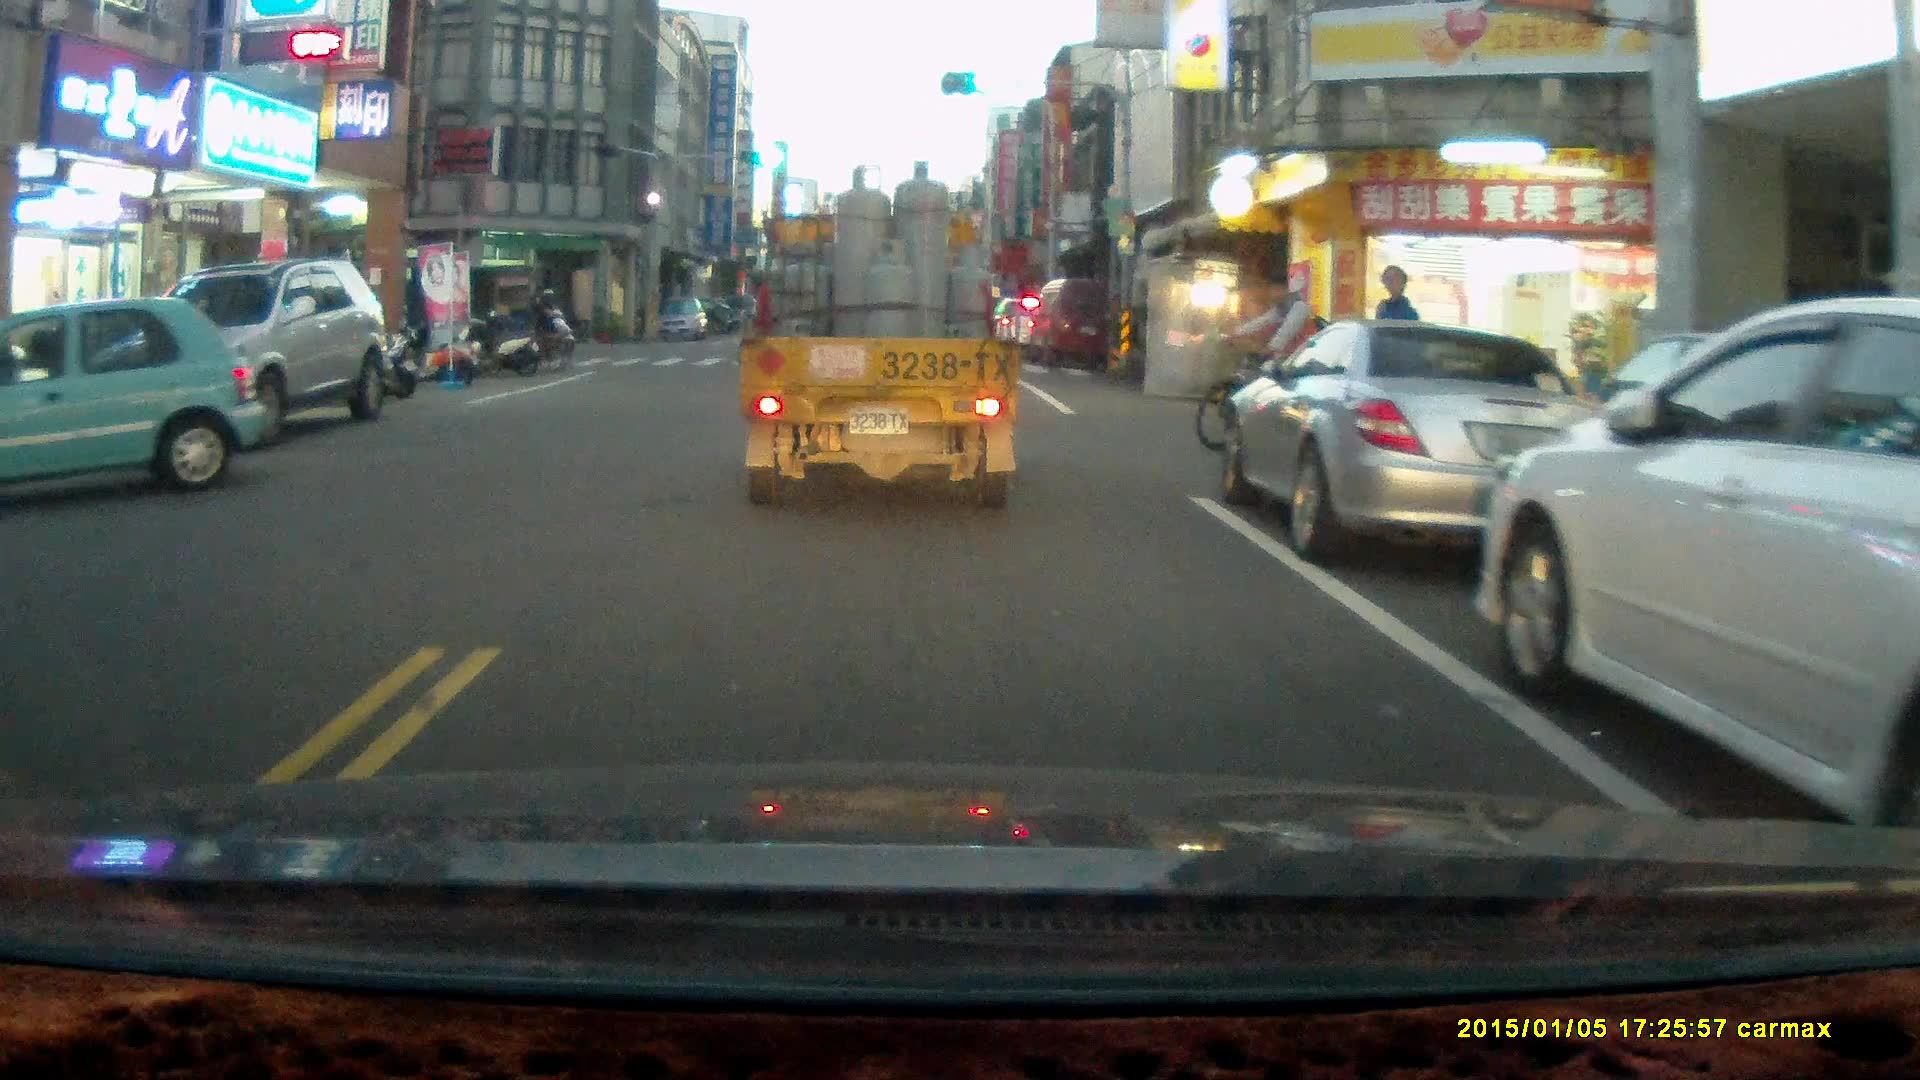rider: (1196, 270, 1359, 455), (516, 283, 579, 359)
vehicle: (1477, 291, 1920, 855), (737, 162, 1027, 515), (1220, 323, 1629, 567), (1, 295, 266, 500), (122, 257, 394, 442), (333, 261, 542, 365), (1032, 273, 1135, 372), (656, 297, 709, 345)
